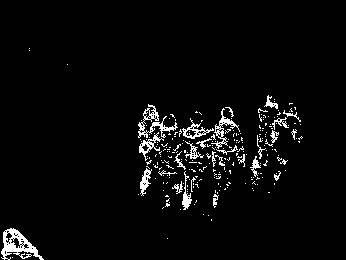person: (210, 106, 248, 215), (182, 111, 215, 210), (152, 112, 185, 209), (270, 101, 304, 184), (252, 94, 280, 188), (137, 101, 164, 197)
